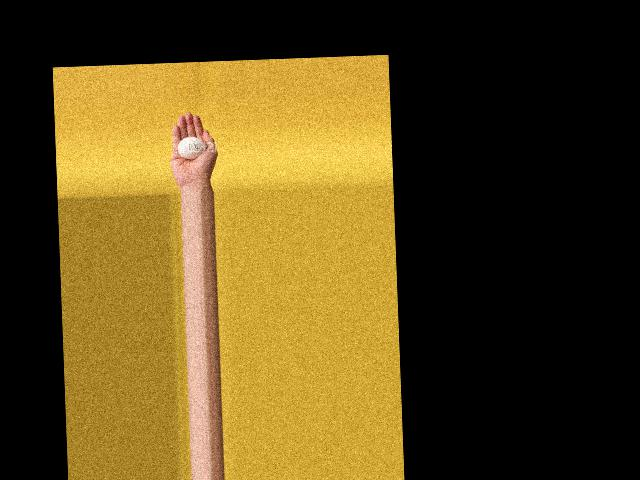egg: (177, 136, 206, 159)
